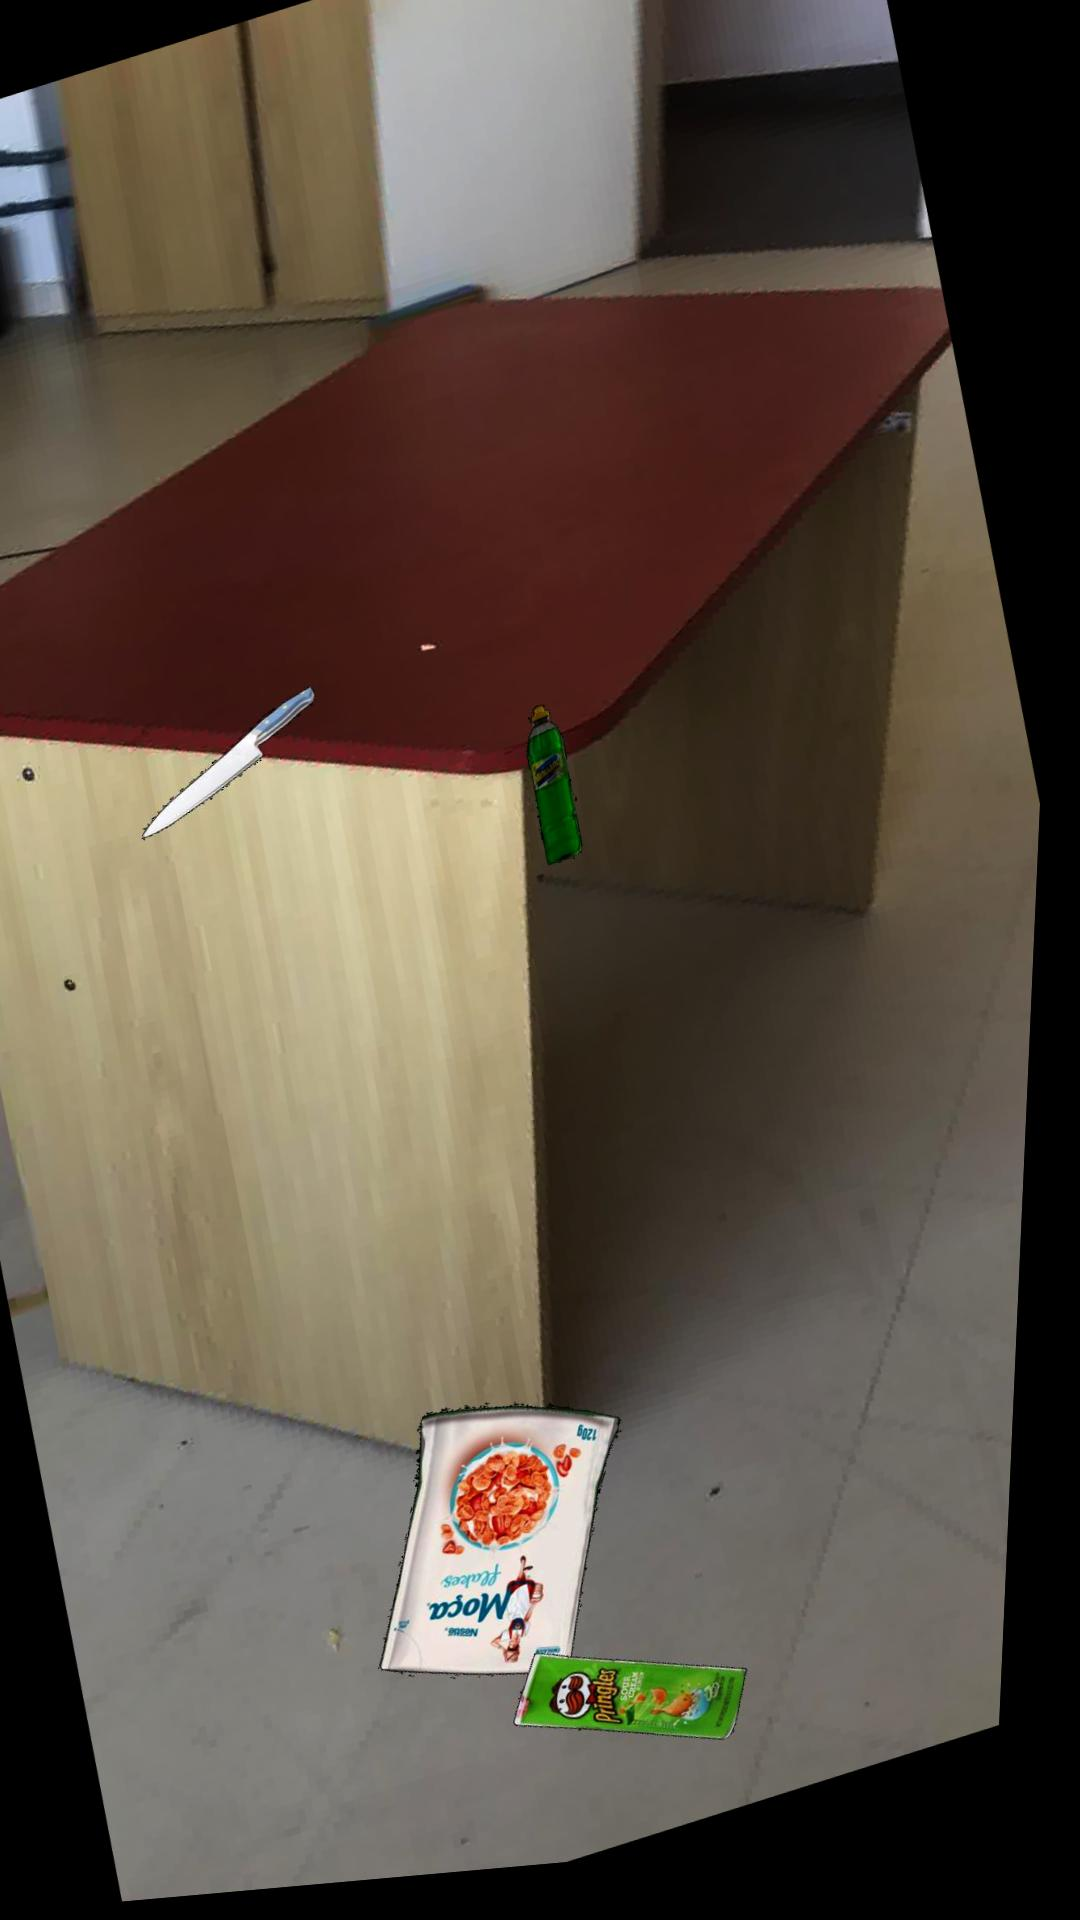cleaner: (535, 713, 592, 873)
corn flakes: (397, 1414, 637, 1684)
knife: (152, 691, 323, 839)
pringles: (531, 1662, 765, 1753)
